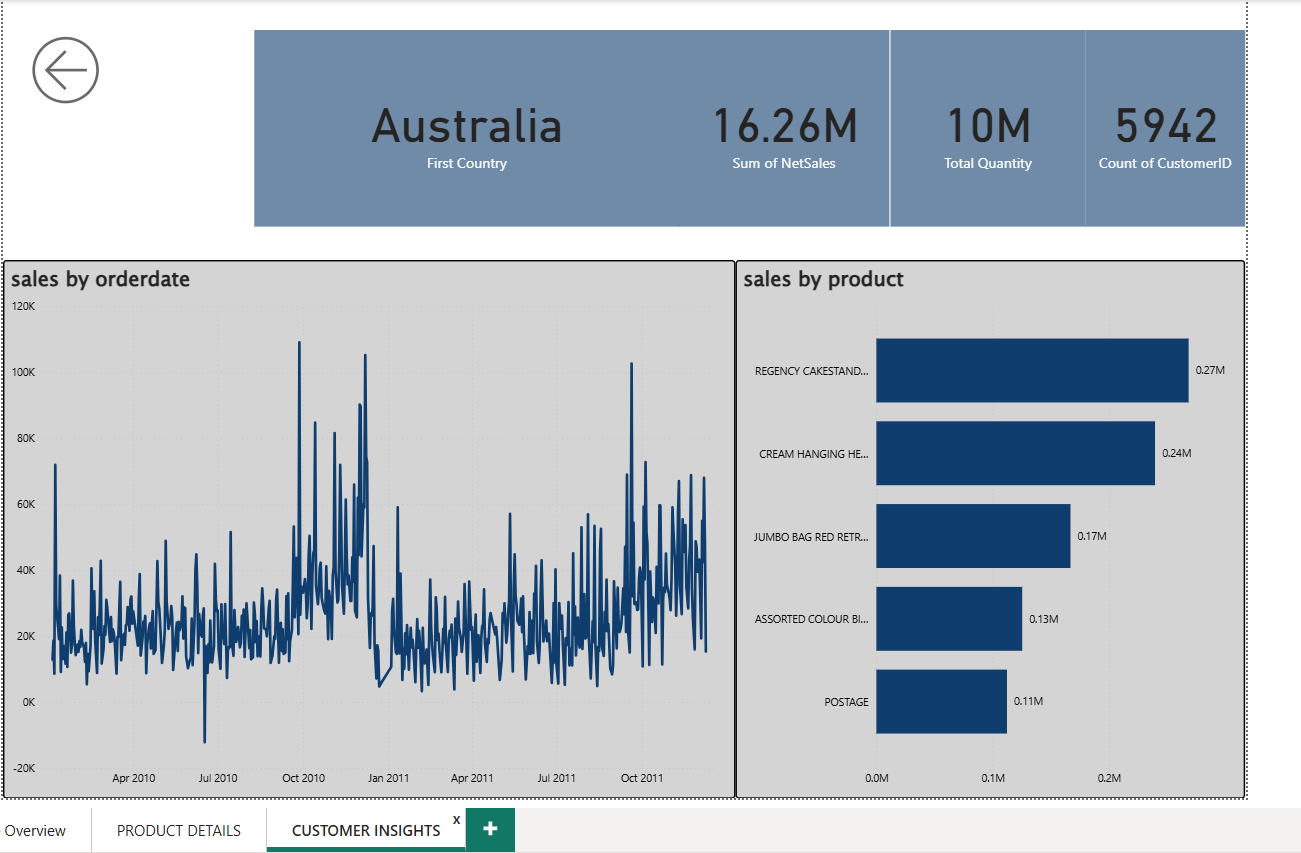

The page's visual inventory and layout, read from the dashboard file:
{"tool":"powerbi","page":{"name":"CUSTOMER INSIGHTS","canvas":[1400,900],"ordinal":2},"visuals":[{"type":"lineChart","title":"sales by orderdate","fields":{"Category":["DimDate.Date"],"Y":["Sum(FactSales.NetSales)"]},"box":[0,293.5,825.4,606.8],"z":0},{"type":"card","fields":{"Values":["CountNonNull(DimCustomer.CustomerID)"]},"box":[1219.8,33.6,180.4,221.6],"z":1000},{"type":"card","fields":{"Values":["Min(DimCustomer.Country)"]},"box":[282.8,33.6,480,221.6],"z":2000},{"type":"barChart","title":"sales by product","fields":{"Category":["DimProduct.Descriptionn"],"Y":["Sum(FactSales.NetSales)"]},"box":[825.4,293.5,574.7,606.8],"z":3000},{"type":"actionButton","box":[24.5,32.1,120.8,93.2],"z":4000},{"type":"card","fields":{"Values":["DimCustomer.Total Quantity"]},"box":[999.7,33.6,220.1,221.6],"z":5000},{"type":"card","fields":{"Values":["Sum(FactSales.NetSales)"]},"box":[762.7,33.6,236.9,221.6],"z":6000}]}

Visuals, with their boxes in screenshot pixels (x1, y1, x2, y2):
"sales by orderdate" lineChart: region(3, 256, 733, 792)
card - CountNonNull(DimCustomer.CustomerID): region(1082, 26, 1241, 222)
card - Min(DimCustomer.Country): region(253, 26, 678, 222)
"sales by product" barChart: region(733, 256, 1241, 792)
actionButton: region(25, 25, 132, 107)
card - DimCustomer.Total Quantity: region(887, 26, 1082, 222)
card - Sum(FactSales.NetSales): region(678, 26, 887, 222)
